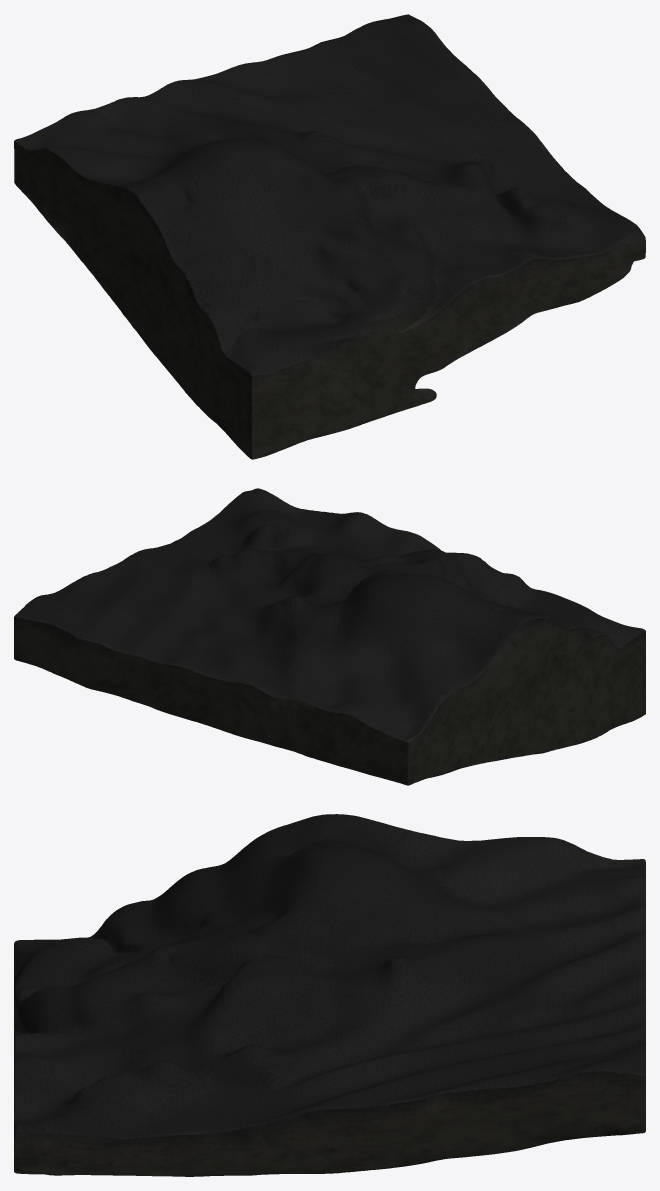
3 renders of one model, top to bottom at view 1: azimuth 30°, elevation 25°; view 2: azimuth 150°, elevation 25°; view 3: azimuth 270°, elevation 25°, orthographic. The views are drawn at different scales.
Visible parts, largest first — view 1: world; view 2: world; view 3: world.
Part boxes in pixels (left/top/right/bottom): world: left=14, top=14, right=645, bottom=459; world: left=14, top=488, right=645, bottom=785; world: left=14, top=814, right=645, bottom=1176.
Bounding box in the file's own units: 5000 × 2414 × 5219.
1 material, 1 textured.
